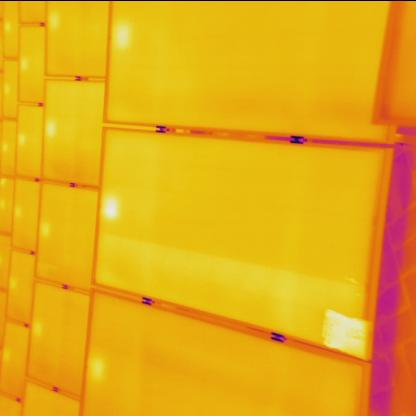hotspot: (321, 307, 374, 359)
